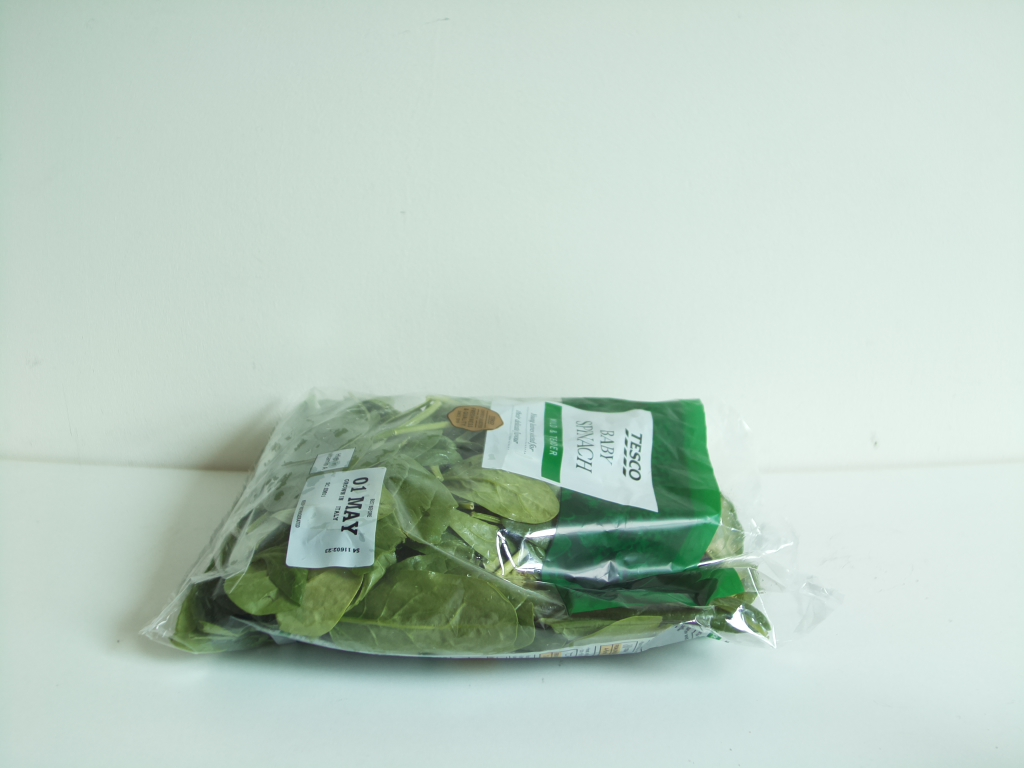salad: (163, 387, 775, 666)
